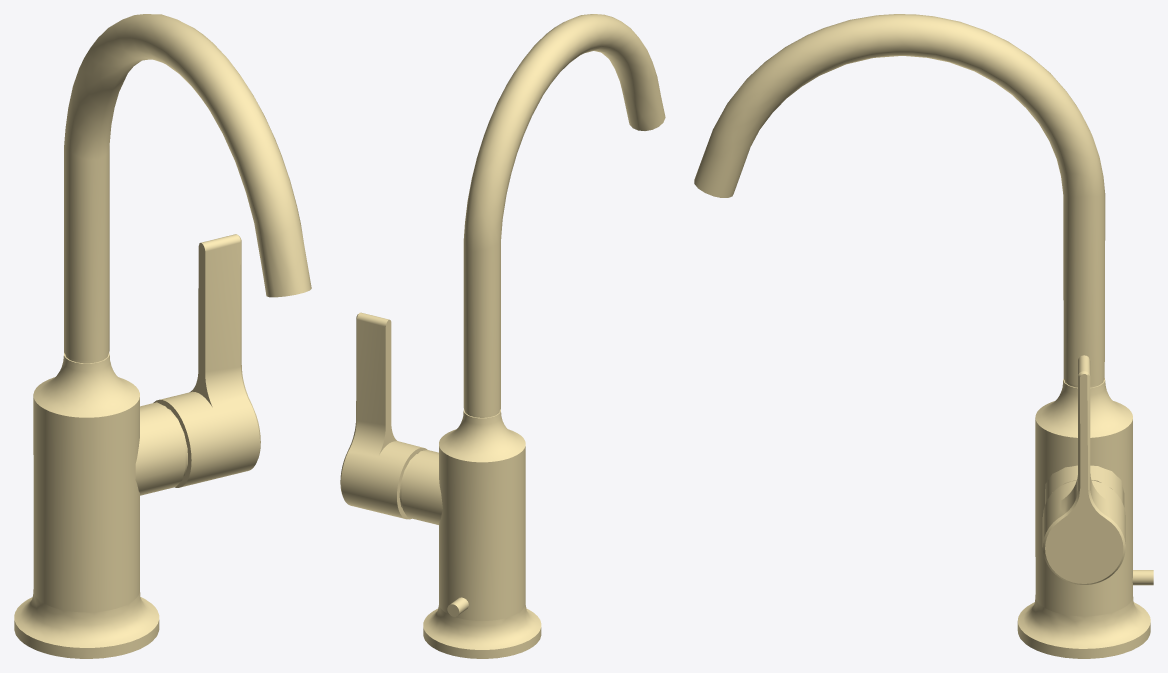
The picture shows the model from 3 angles, left to right: view 1: azimuth 30°, elevation 25°; view 2: azimuth 150°, elevation 25°; view 3: azimuth 270°, elevation 25°; orthographic projection. The views are drawn at different scales.
Parts seen in each view (by area): view 1: L_b3fd0373_e40e_47cc_bae9_4134293fa280_I4, L_d158db58_878c_449b_9b62_d961d0724a06_I5, L_7c7dc84a_6811_4aae_b36a_73f8486da92f_I3, L_e933ee48_d21f_4b62_84b1_4d9048b2e1e1_I6; view 2: L_b3fd0373_e40e_47cc_bae9_4134293fa280_I4, L_d158db58_878c_449b_9b62_d961d0724a06_I5, L_7c7dc84a_6811_4aae_b36a_73f8486da92f_I3, L_e933ee48_d21f_4b62_84b1_4d9048b2e1e1_I6; view 3: L_d158db58_878c_449b_9b62_d961d0724a06_I5, L_b3fd0373_e40e_47cc_bae9_4134293fa280_I4, L_7c7dc84a_6811_4aae_b36a_73f8486da92f_I3, L_e933ee48_d21f_4b62_84b1_4d9048b2e1e1_I6.
Boxes of the visible parts, left/top/right/bottom form: L_b3fd0373_e40e_47cc_bae9_4134293fa280_I4: left=14, top=352, right=159, bottom=658; L_d158db58_878c_449b_9b62_d961d0724a06_I5: left=64, top=14, right=311, bottom=360; L_7c7dc84a_6811_4aae_b36a_73f8486da92f_I3: left=153, top=234, right=260, bottom=487; L_e933ee48_d21f_4b62_84b1_4d9048b2e1e1_I6: left=135, top=402, right=187, bottom=495; L_b3fd0373_e40e_47cc_bae9_4134293fa280_I4: left=423, top=409, right=541, bottom=658; L_d158db58_878c_449b_9b62_d961d0724a06_I5: left=463, top=14, right=665, bottom=416; L_7c7dc84a_6811_4aae_b36a_73f8486da92f_I3: left=340, top=312, right=427, bottom=519; L_e933ee48_d21f_4b62_84b1_4d9048b2e1e1_I6: left=399, top=450, right=442, bottom=524; L_d158db58_878c_449b_9b62_d961d0724a06_I5: left=694, top=14, right=1105, bottom=385; L_b3fd0373_e40e_47cc_bae9_4134293fa280_I4: left=1017, top=378, right=1150, bottom=658; L_7c7dc84a_6811_4aae_b36a_73f8486da92f_I3: left=1042, top=355, right=1125, bottom=584; L_e933ee48_d21f_4b62_84b1_4d9048b2e1e1_I6: left=1045, top=465, right=1124, bottom=506.
Size of the model in its own units: 0.1029 by 0.3062 by 0.2073.
